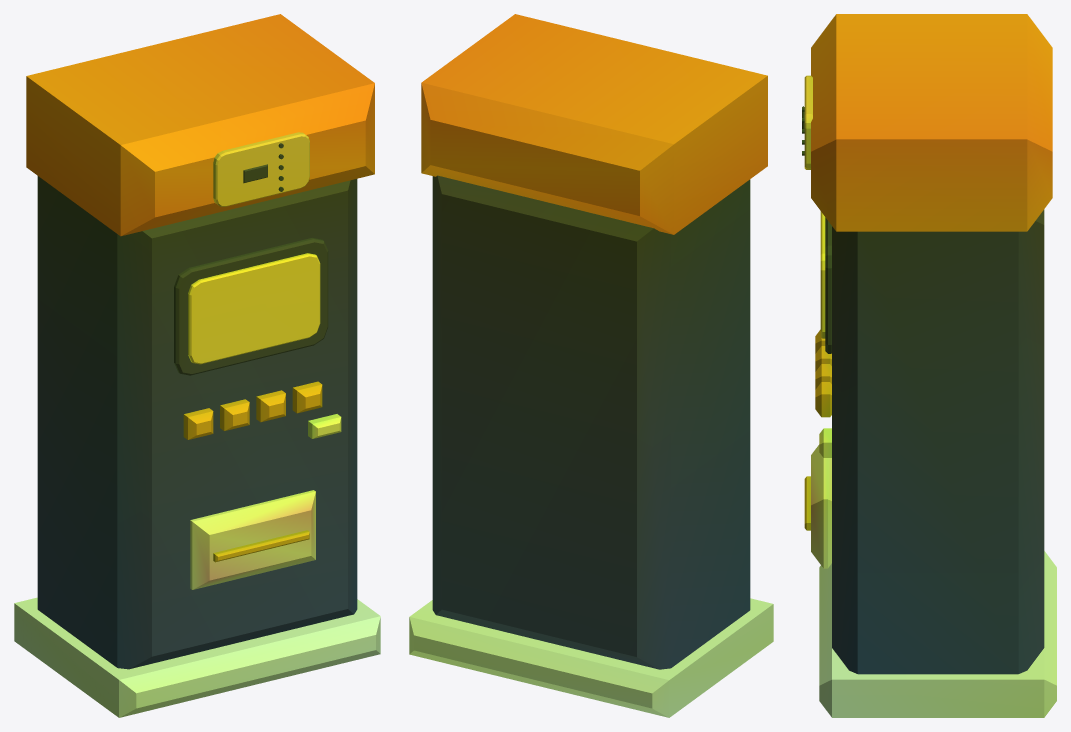
File: Prop_TicketMachine.fbx
3 views of the same model, side by side, from view 1: azimuth 30°, elevation 25°; view 2: azimuth 150°, elevation 25°; view 3: azimuth 270°, elevation 25° (orthographic).
Parts seen in each view (by area): view 1: Prop_TicketMachine; view 2: Prop_TicketMachine; view 3: Prop_TicketMachine.
Part boxes in pixels (left/top/right/bottom): Prop_TicketMachine: left=14, top=14, right=380, bottom=717; Prop_TicketMachine: left=409, top=14, right=773, bottom=717; Prop_TicketMachine: left=802, top=14, right=1056, bottom=717.
Size of the model in its own units: 0.72 by 1.5 by 0.601.
